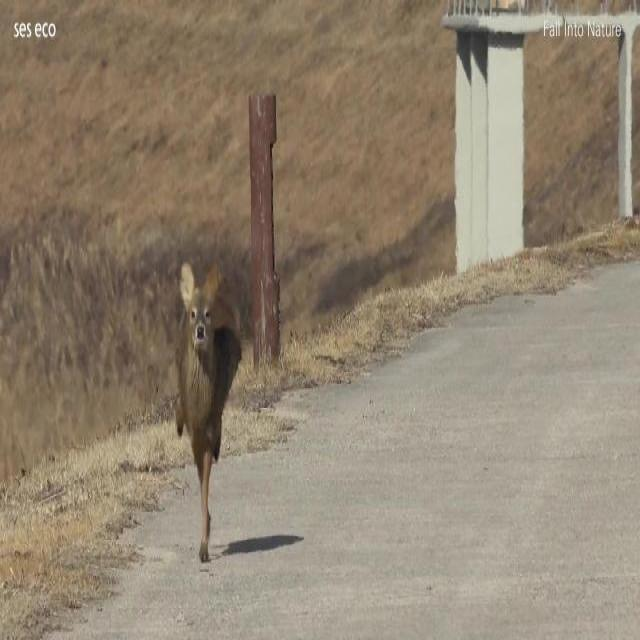deer: (174, 257, 238, 564)
